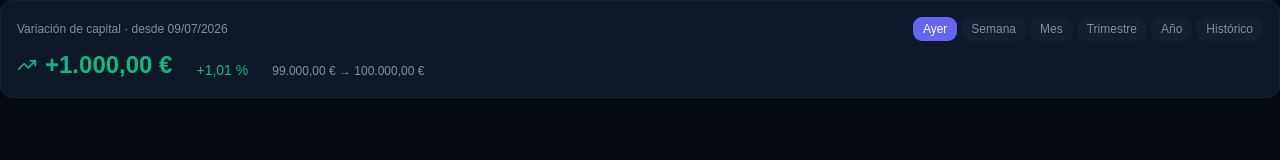
Test case: CapitalDelta › period buttons are type=button with aria-pressed
Click the button "Mes". click: (1051, 29)
box: [1030, 17, 1073, 41]
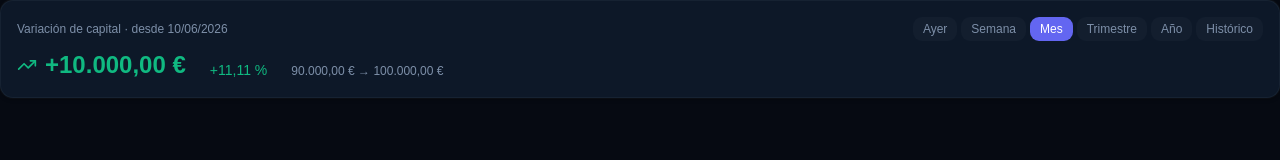
Expected: the button "Mes" is pressed, [1030, 17, 1073, 41]
